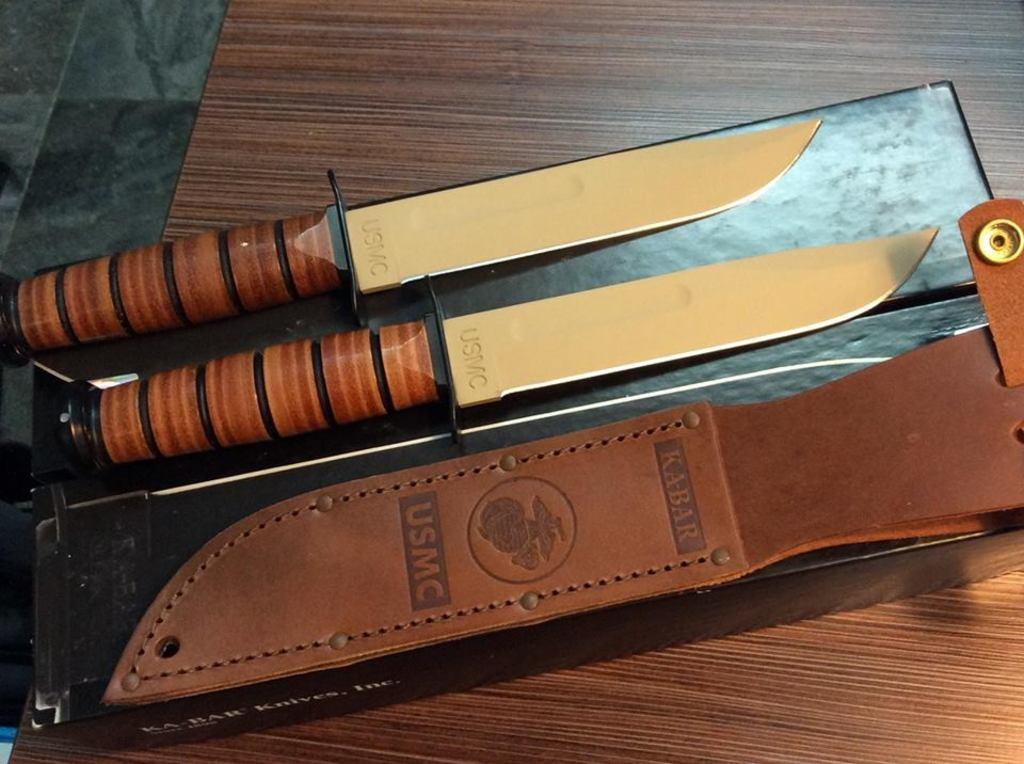Knife: (51, 225, 946, 462), (0, 116, 822, 369)
